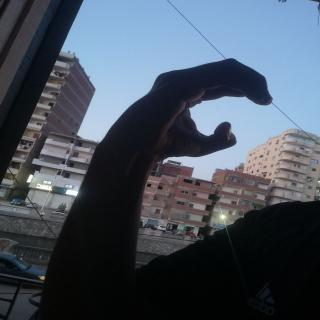JEEM: (100, 51, 283, 181)
